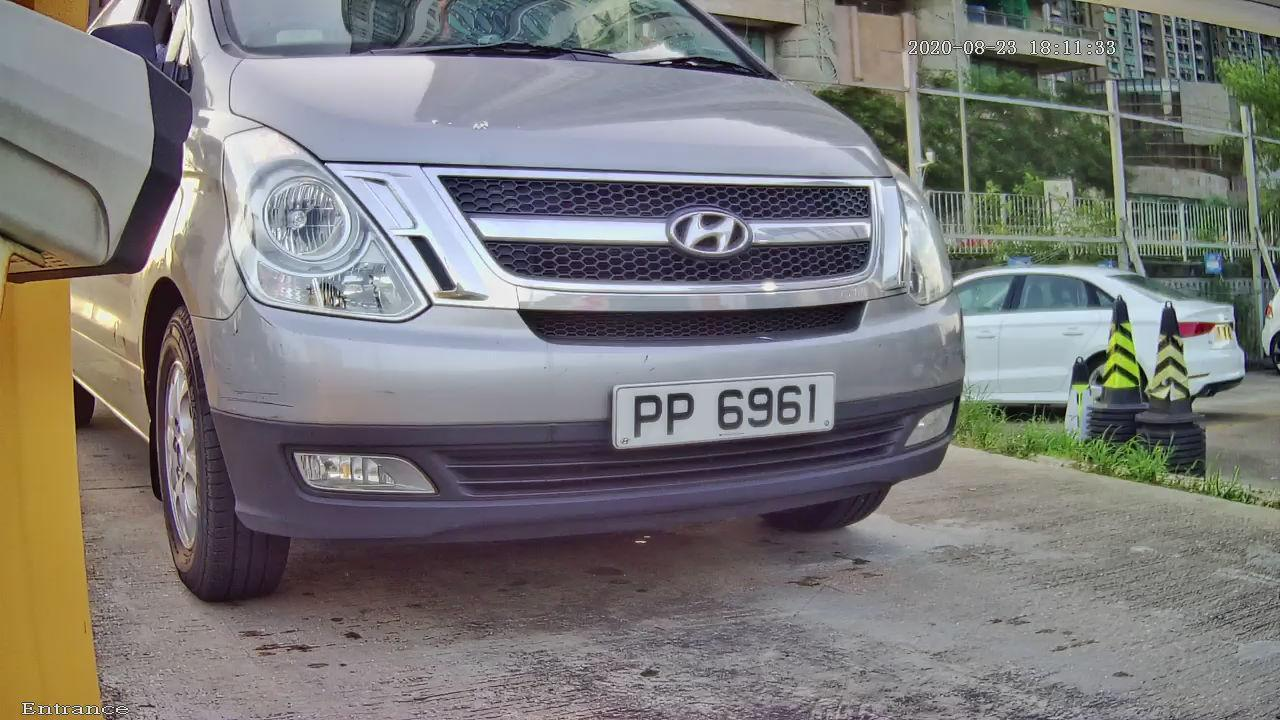Car: (58, 1, 1058, 592)
License Plate: (549, 347, 882, 488)
